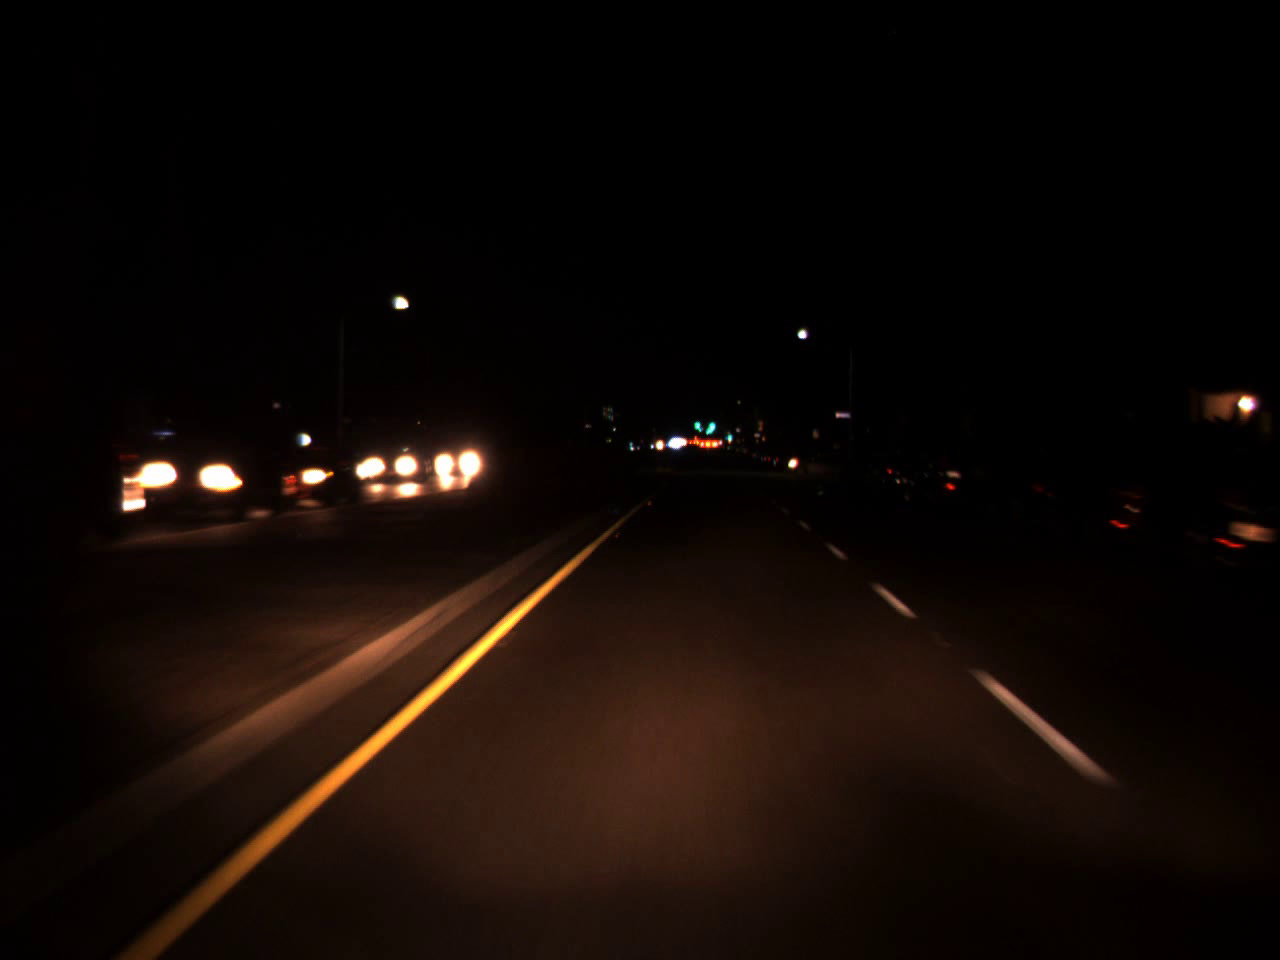go: (703, 406, 717, 439), (692, 408, 702, 435), (726, 428, 733, 440)
